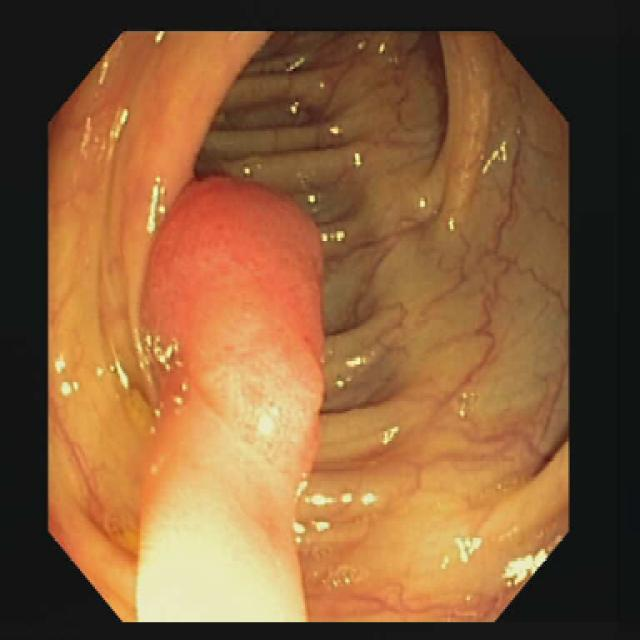tumor: (137, 178, 322, 618)
